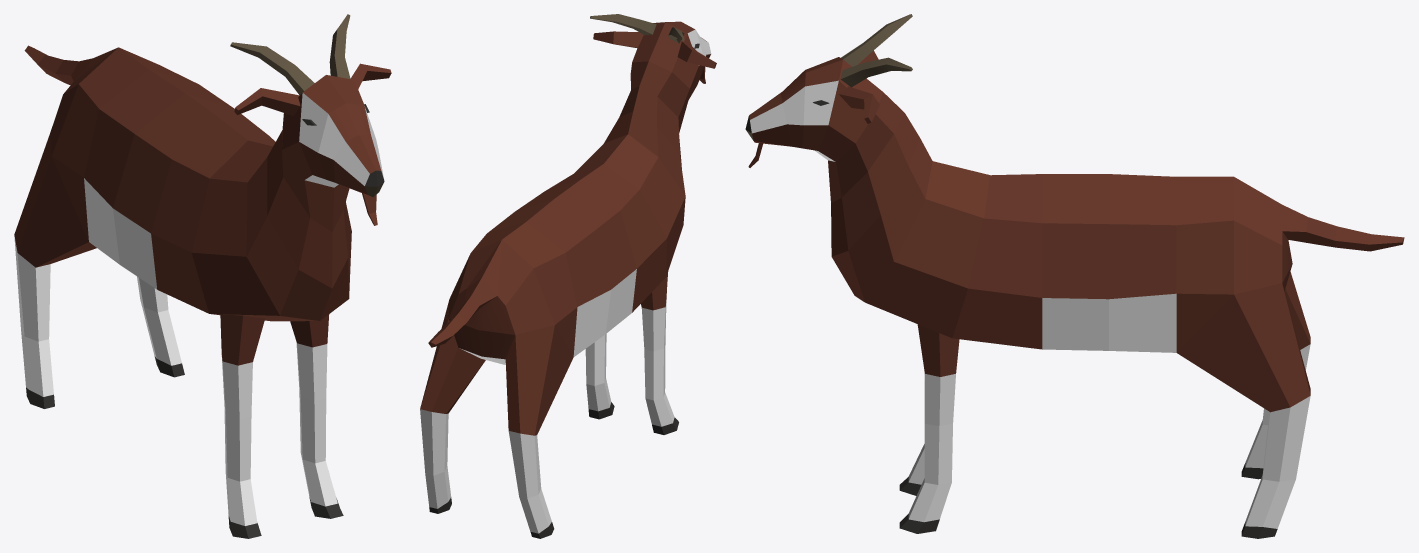
File: Mesh_Goat.gltf
3 renders of one model, left to right at view 1: azimuth 30°, elevation 25°; view 2: azimuth 150°, elevation 25°; view 3: azimuth 270°, elevation 25°, orthographic. The views are drawn at different scales.
Visible parts, largest first — view 1: node-0; view 2: node-0; view 3: node-0.
Boxes of the visible parts, <box> form: node-0: <box>14,14,391,538</box>; node-0: <box>420,14,716,538</box>; node-0: <box>745,14,1404,538</box>.
Size of the model in its own units: 51.84 by 159 by 203.
1 material, 1 textured.
